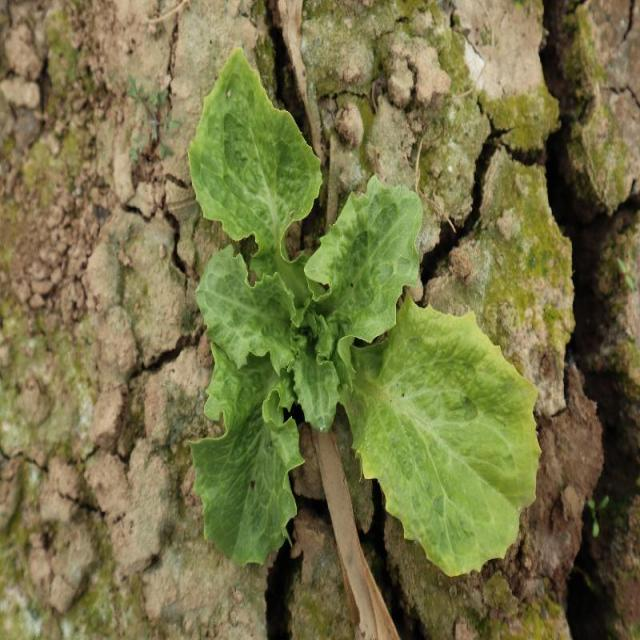crop: (186, 43, 543, 581)
